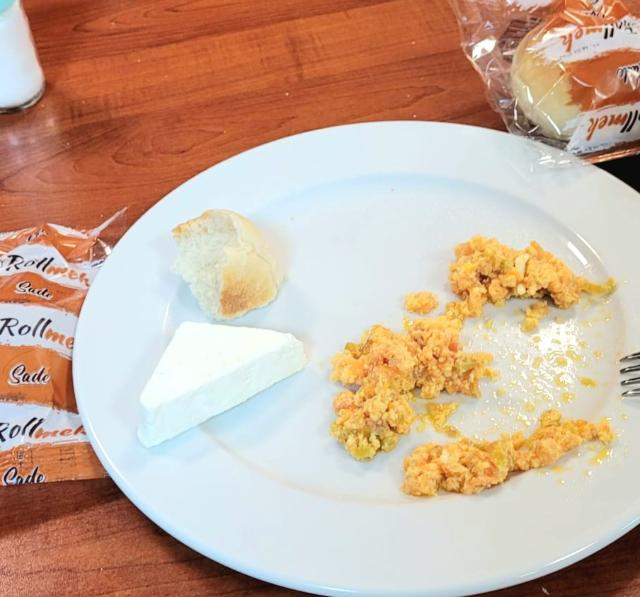Organik: (326, 225, 614, 492), (137, 320, 312, 465), (170, 208, 290, 323)
Plastik: (446, 0, 640, 175), (0, 217, 109, 497)
